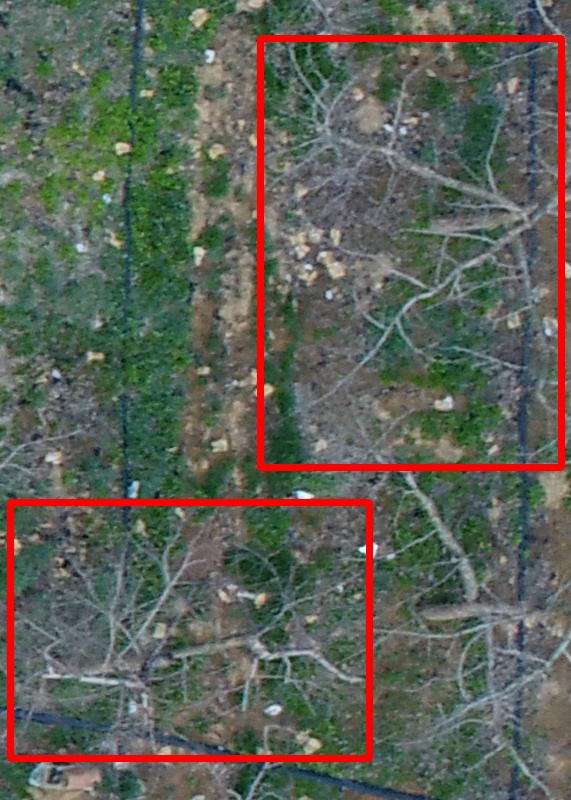apple: (260, 38, 561, 467), (10, 502, 369, 758)
